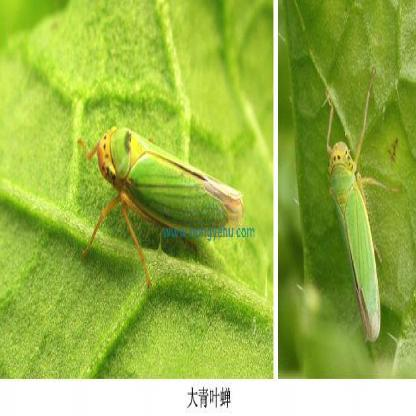Green-Leafhopper: (78, 125, 244, 289), (322, 77, 392, 344)
